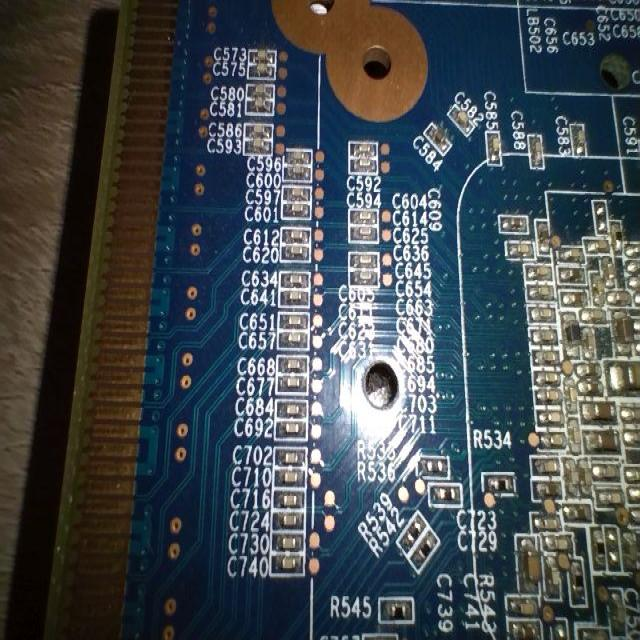capacitor: (349, 223, 393, 250), (584, 423, 625, 451), (525, 546, 544, 604), (285, 143, 316, 171), (566, 116, 589, 152), (346, 206, 392, 224), (346, 268, 385, 289), (249, 39, 276, 67), (597, 486, 631, 508), (281, 332, 310, 357), (486, 134, 506, 166), (280, 271, 313, 290), (347, 251, 381, 269), (353, 139, 389, 156), (285, 239, 309, 264), (281, 515, 307, 538), (348, 159, 381, 177), (532, 302, 555, 326), (502, 240, 533, 256), (538, 389, 564, 408), (278, 469, 303, 488), (540, 432, 565, 450), (250, 66, 272, 86), (284, 402, 306, 422), (588, 238, 608, 254), (534, 350, 558, 362)
resistor: (374, 594, 421, 624), (485, 463, 526, 494), (418, 534, 438, 575), (405, 518, 425, 546), (423, 458, 453, 473)
